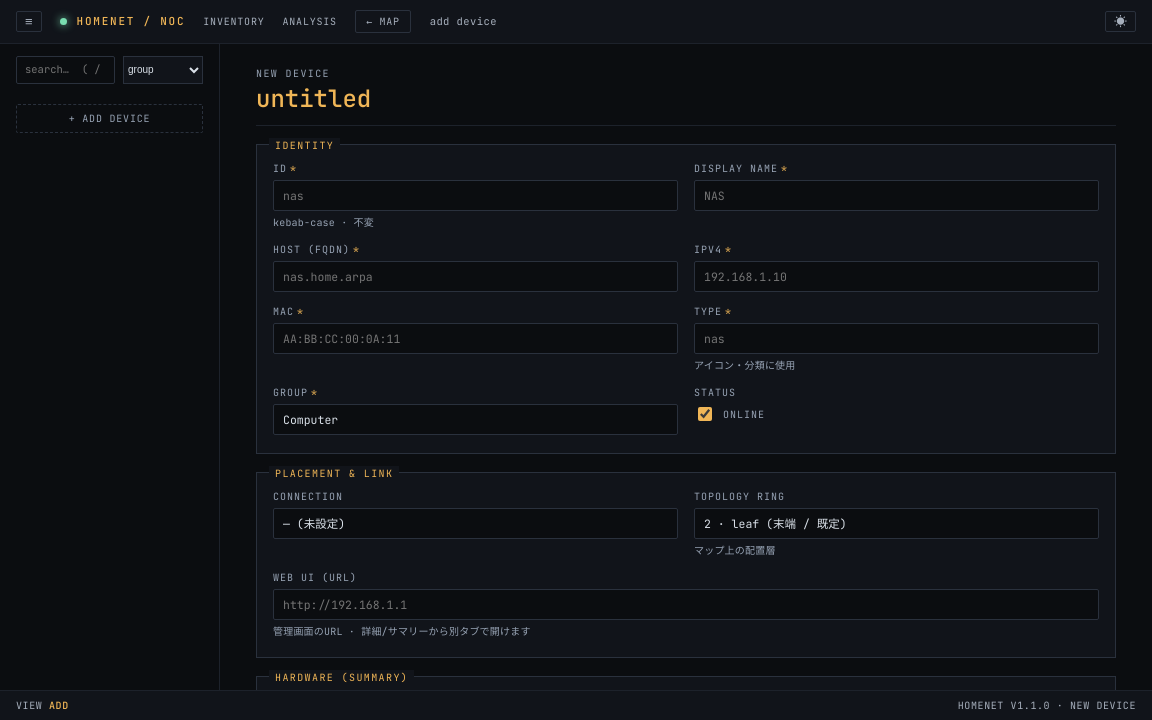
EditView (add mode) › auto-suggests a kebab-case id from the typed name
The width and height of the screenshot is (1152, 720).
In the field labelled "display name*": {"x": 896, "y": 196} [694,180,1099,211], type "My NAS"
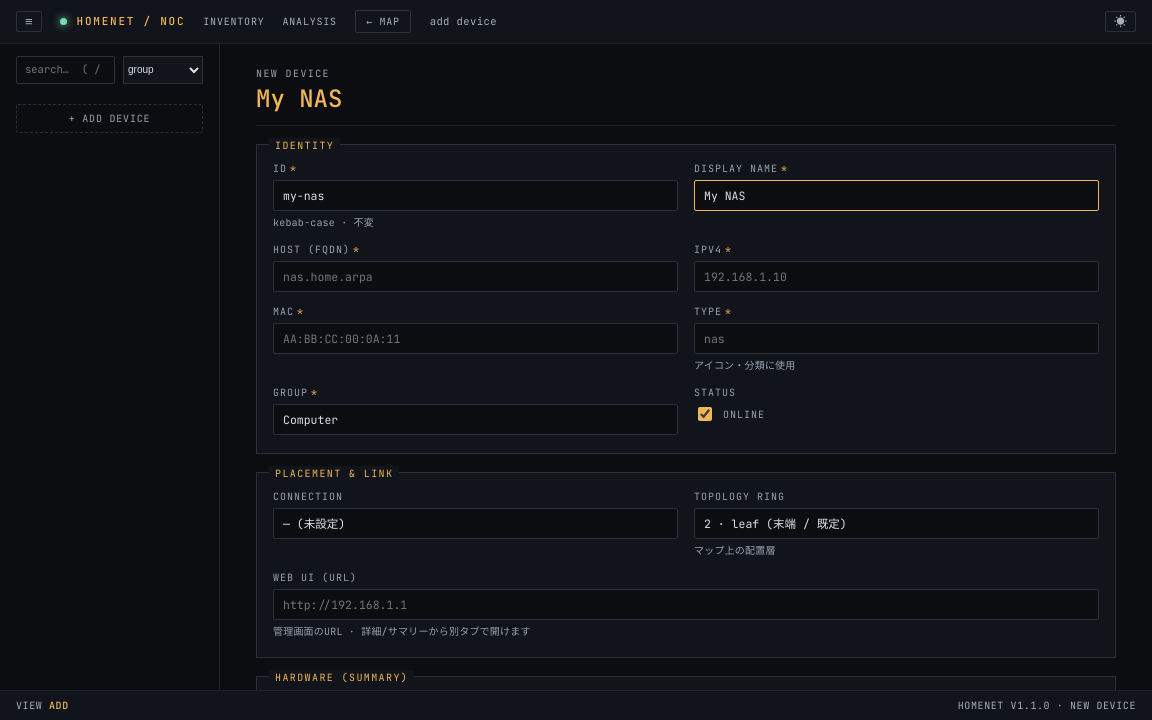
Expected: the field with id "f-id" holds "my-nas", [273,180,678,211]
